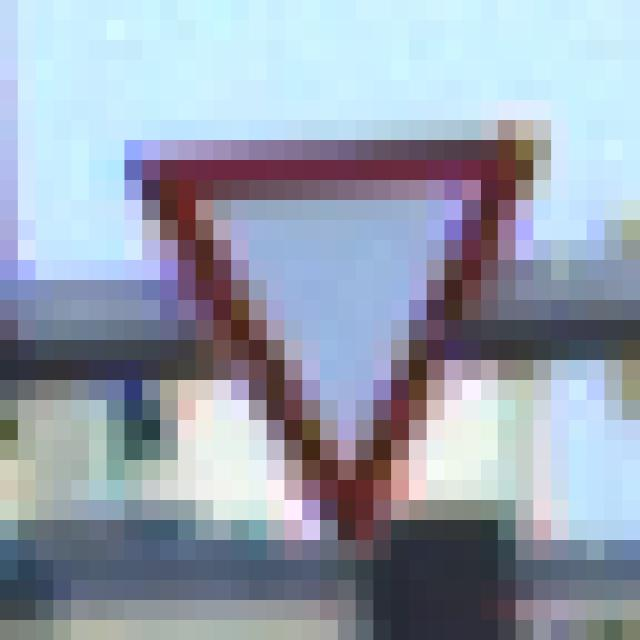Give Way: (108, 101, 552, 541)
